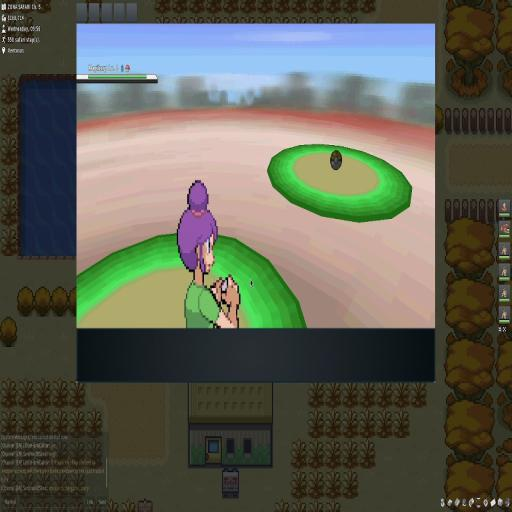SUCESSFULCAPTURE: (330, 150, 343, 170)
